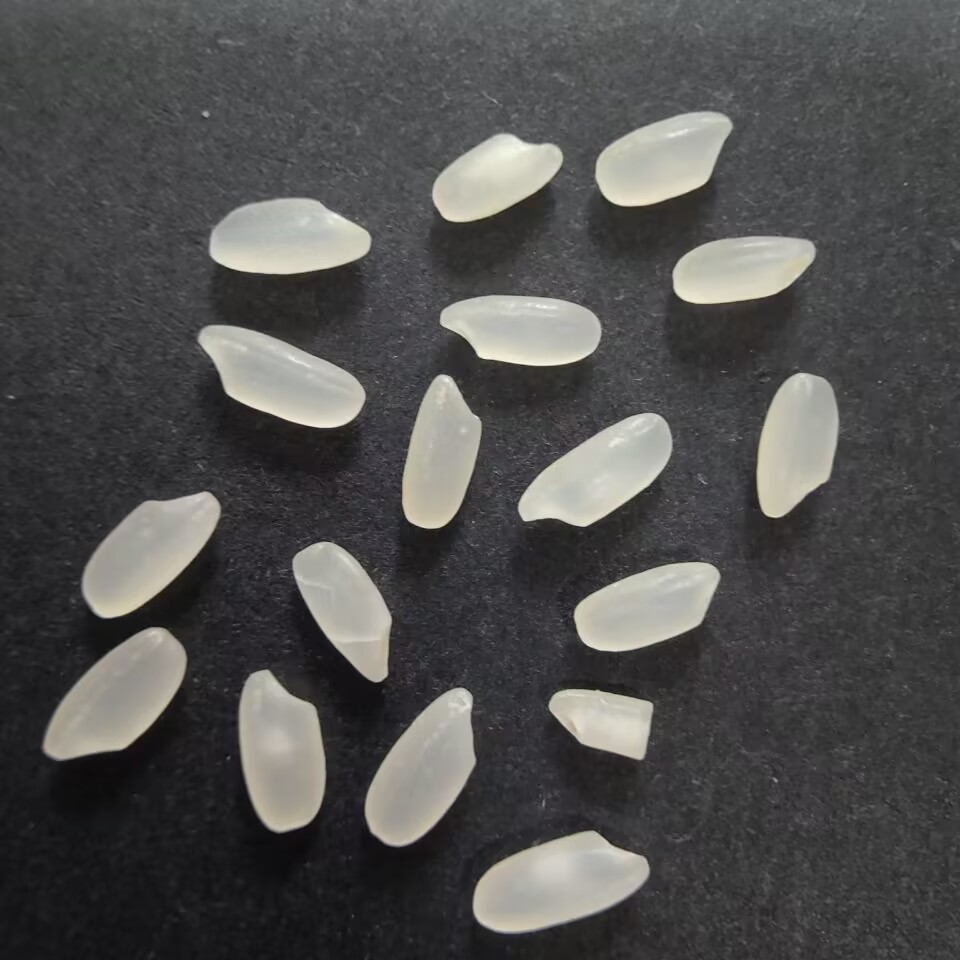broken: (544, 681, 661, 766)
rice: (32, 620, 193, 772), (466, 822, 657, 940), (357, 682, 479, 855), (79, 485, 226, 625), (512, 405, 675, 529), (191, 319, 368, 433), (230, 664, 330, 845), (285, 539, 399, 684), (565, 553, 725, 655), (747, 365, 846, 526), (591, 104, 738, 209), (394, 370, 485, 539), (423, 126, 566, 229), (204, 194, 375, 276), (432, 294, 607, 371), (664, 227, 817, 309)
